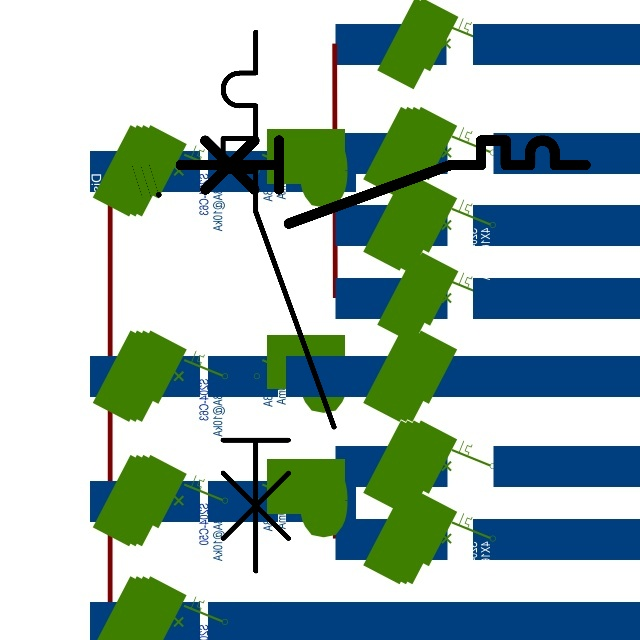interruptor_termomagnetico: (209, 18, 348, 585), (170, 130, 595, 234)
